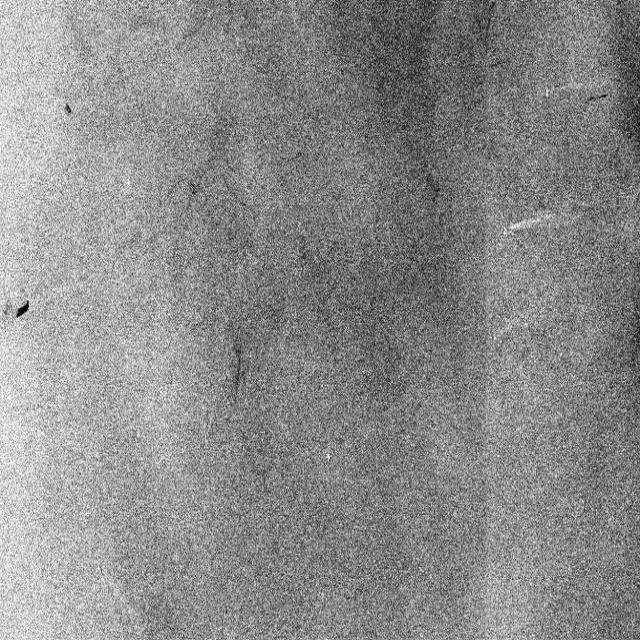oil-spill: (55, 95, 76, 128), (14, 293, 33, 325)
